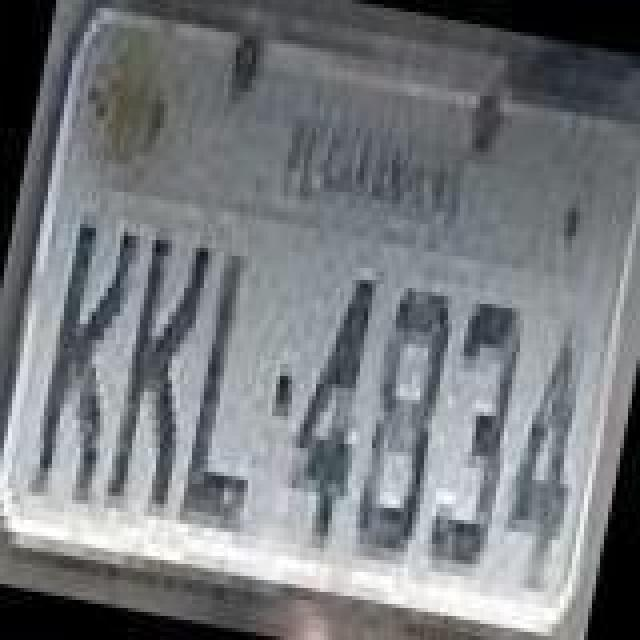3: (412, 286, 532, 578)
4: (266, 262, 390, 554), (488, 318, 600, 594)
8: (346, 276, 462, 564)
K: (98, 222, 222, 514), (28, 208, 148, 504)
L: (170, 236, 294, 532)
